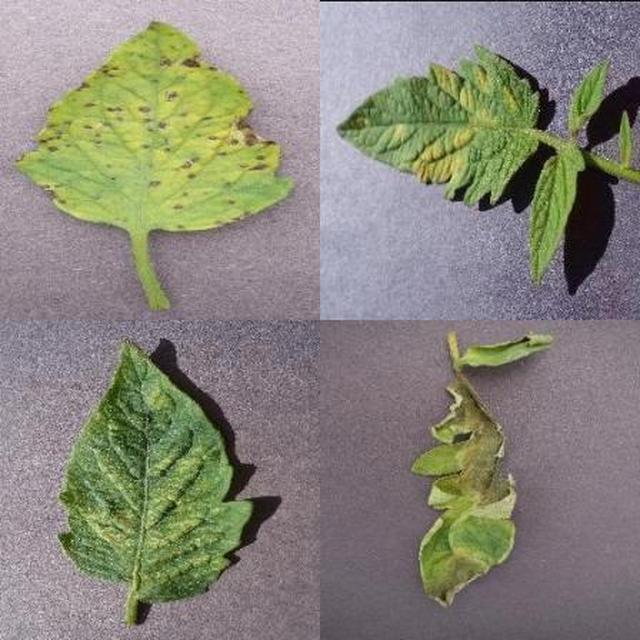Septoria Leaf: (79, 53, 640, 640)
